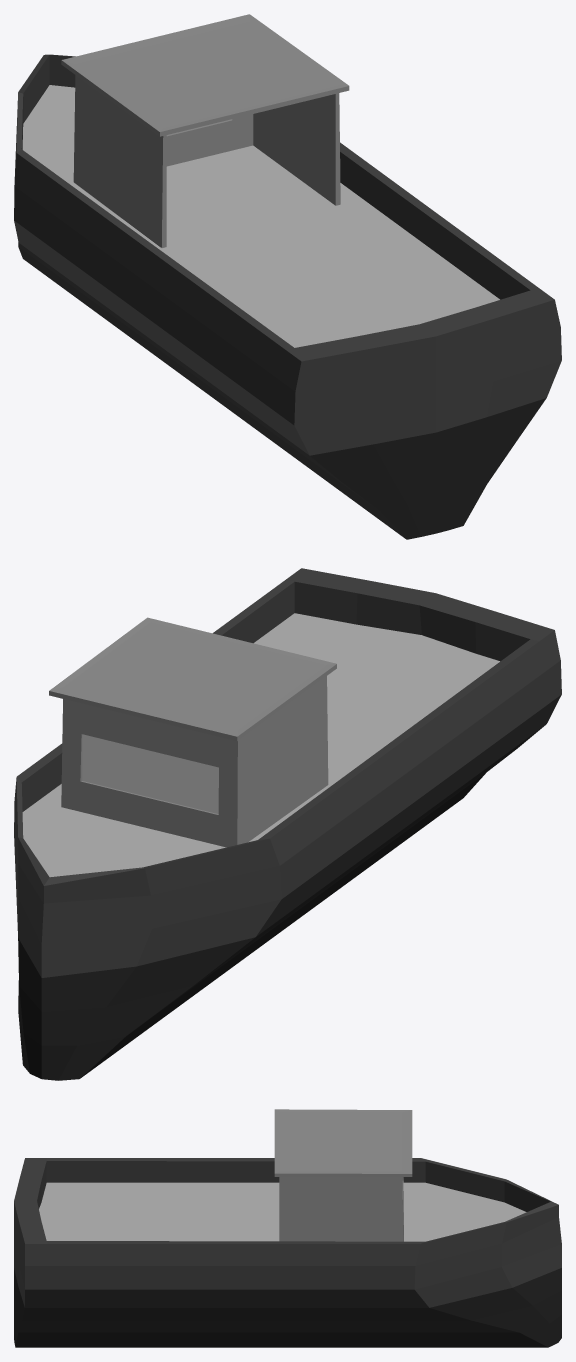
The model's file is low_poly_boat.fbx.
The picture shows the model from 3 angles, top to bottom: view 1: azimuth 30°, elevation 25°; view 2: azimuth 150°, elevation 25°; view 3: azimuth 270°, elevation 25°; orthographic projection. The views are drawn at different scales.
Parts seen in each view (by area): view 1: Cube, Cube.001; view 2: Cube, Cube.001, Plane; view 3: Cube, Cube.001.
Part boxes in pixels (x1,y1,x2,y2): Cube: (14, 54, 561, 539); Cube.001: (61, 14, 349, 247); Cube: (14, 568, 561, 1080); Cube.001: (49, 617, 336, 847); Plane: (82, 734, 218, 813); Cube: (14, 1158, 561, 1347); Cube.001: (274, 1109, 412, 1241).
Size of the model in its own units: 277 by 283 by 707.
2 materials, 1 textured.
